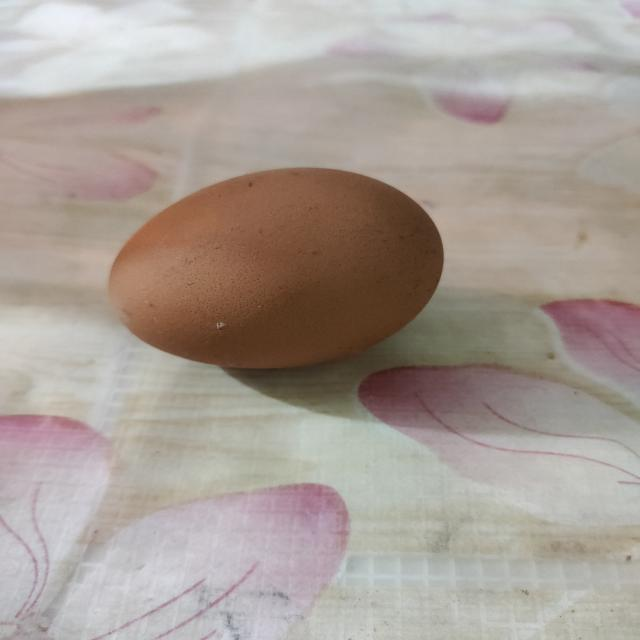Egg: (95, 156, 451, 382)
